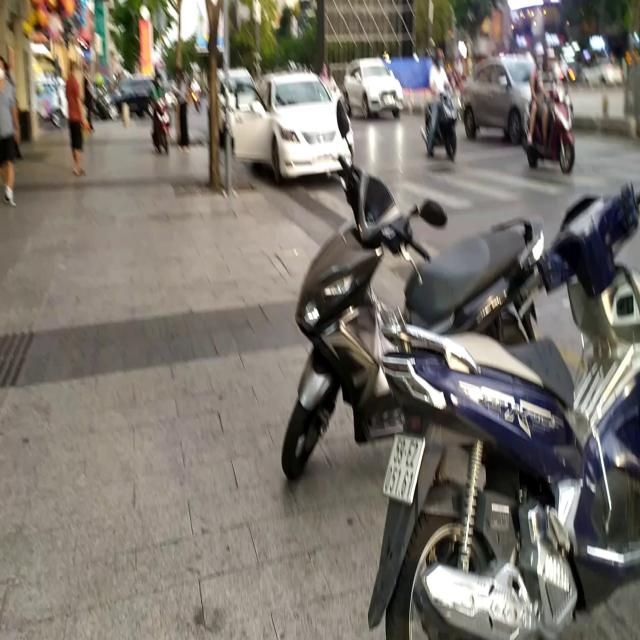bien_trang: (384, 427, 421, 501)
